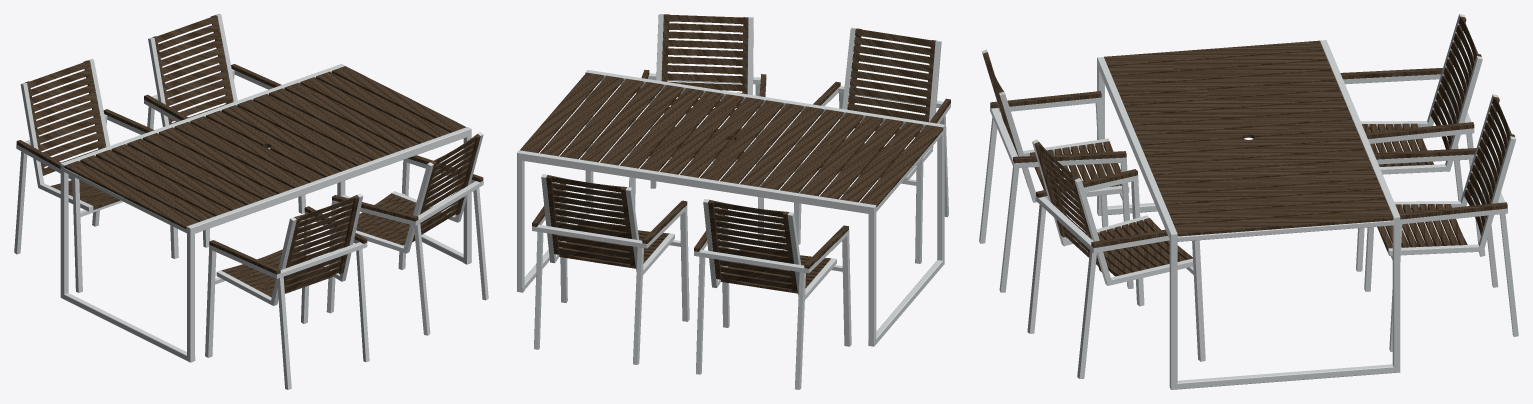
The model's file is outdoor-table-materials.glb.
The picture shows the model from 3 angles, left to right: view 1: azimuth 30°, elevation 25°; view 2: azimuth 150°, elevation 25°; view 3: azimuth 270°, elevation 25°; orthographic projection. The views are drawn at different scales.
Visible parts, largest first — view 1: mesh_4_4_0, mesh_5_5_1, mesh_3_3_1, mesh_2_2_1, mesh_0_0_1, mesh_8_8_0, mesh_1_1_1, mesh_9_9_0, mesh_7_7_0, mesh_6_6_0; view 2: mesh_4_4_0, mesh_5_5_1, mesh_0_0_1, mesh_3_3_1, mesh_2_2_1, mesh_1_1_1, mesh_6_6_0, mesh_7_7_0, mesh_8_8_0, mesh_9_9_0; view 3: mesh_4_4_0, mesh_5_5_1, mesh_9_9_0, mesh_2_2_1, mesh_1_1_1, mesh_8_8_0, mesh_6_6_0, mesh_3_3_1, mesh_7_7_0, mesh_0_0_1.
Boxes of the visible parts, x1,y1,x2,y2 form: mesh_4_4_0: [64, 66, 466, 229]; mesh_5_5_1: [60, 64, 471, 362]; mesh_3_3_1: [16, 60, 154, 209]; mesh_2_2_1: [144, 15, 281, 148]; mesh_0_0_1: [209, 195, 367, 297]; mesh_8_8_0: [205, 193, 369, 389]; mesh_1_1_1: [332, 134, 483, 245]; mesh_9_9_0: [326, 132, 488, 335]; mesh_7_7_0: [14, 59, 178, 292]; mesh_6_6_0: [144, 14, 305, 247]; mesh_4_4_0: [520, 72, 943, 207]; mesh_5_5_1: [517, 70, 944, 346]; mesh_0_0_1: [813, 28, 950, 177]; mesh_3_3_1: [694, 199, 848, 293]; mesh_2_2_1: [532, 175, 687, 268]; mesh_1_1_1: [636, 14, 766, 159]; mesh_6_6_0: [532, 174, 689, 364]; mesh_7_7_0: [694, 199, 851, 389]; mesh_8_8_0: [794, 27, 950, 263]; mesh_9_9_0: [629, 14, 766, 240]; mesh_4_4_0: [1104, 40, 1393, 236]; mesh_5_5_1: [1097, 40, 1400, 389]; mesh_9_9_0: [1027, 139, 1205, 378]; mesh_2_2_1: [1374, 96, 1514, 252]; mesh_1_1_1: [1034, 142, 1192, 276]; mesh_8_8_0: [979, 49, 1133, 292]; mesh_6_6_0: [1364, 94, 1518, 351]; mesh_3_3_1: [1340, 16, 1481, 166]; mesh_7_7_0: [1343, 14, 1485, 271]; mesh_0_0_1: [983, 52, 1126, 189].
Size of the model in its own units: 2.06 by 0.966 by 2.42.
Materials: 2 (1 with a texture image).
